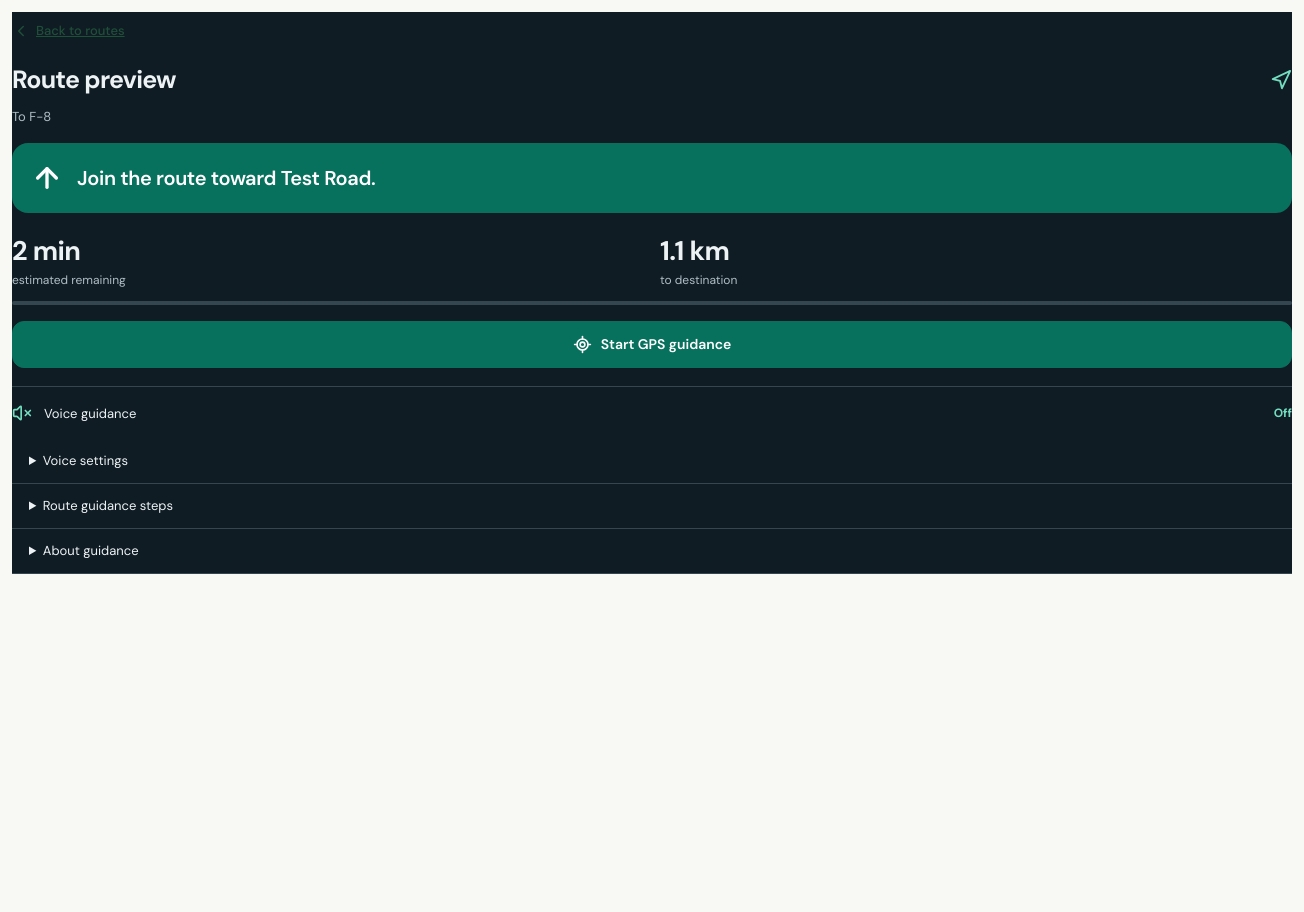
Test: refreshes a quiet watch with an uncached high-accuracy request and recovers after the old fix expires
What coordinates should you click on to do the following:
click the button "Start GPS guidance"
I would click on:
 (652, 345)
Its box is [12, 321, 1292, 368].
Wait 16000 ms
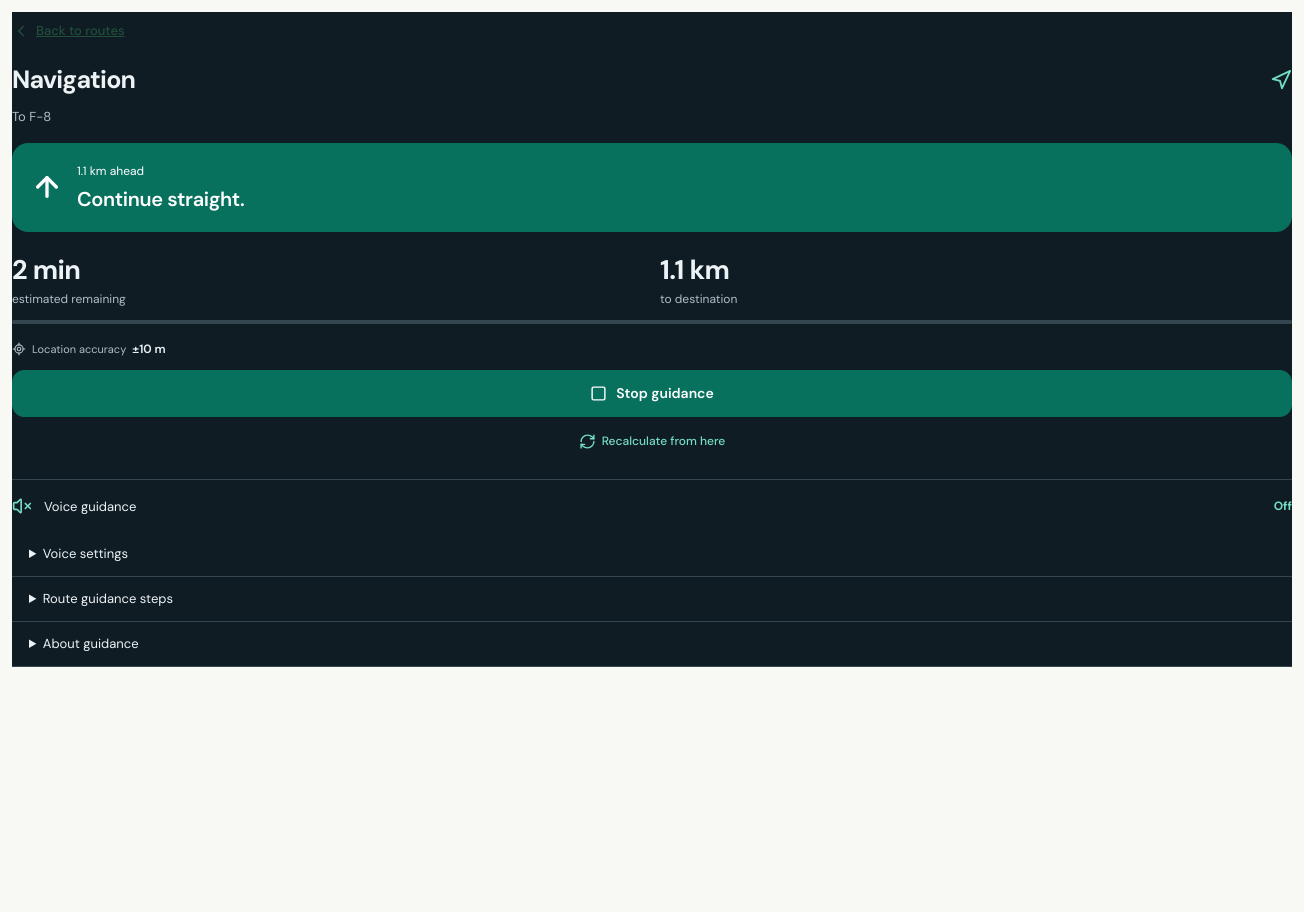
Expected: the heading named "Location signal lost" is shown, [77, 185, 244, 213]
Now the text "±10 m" is shown, box [132, 340, 166, 358]
